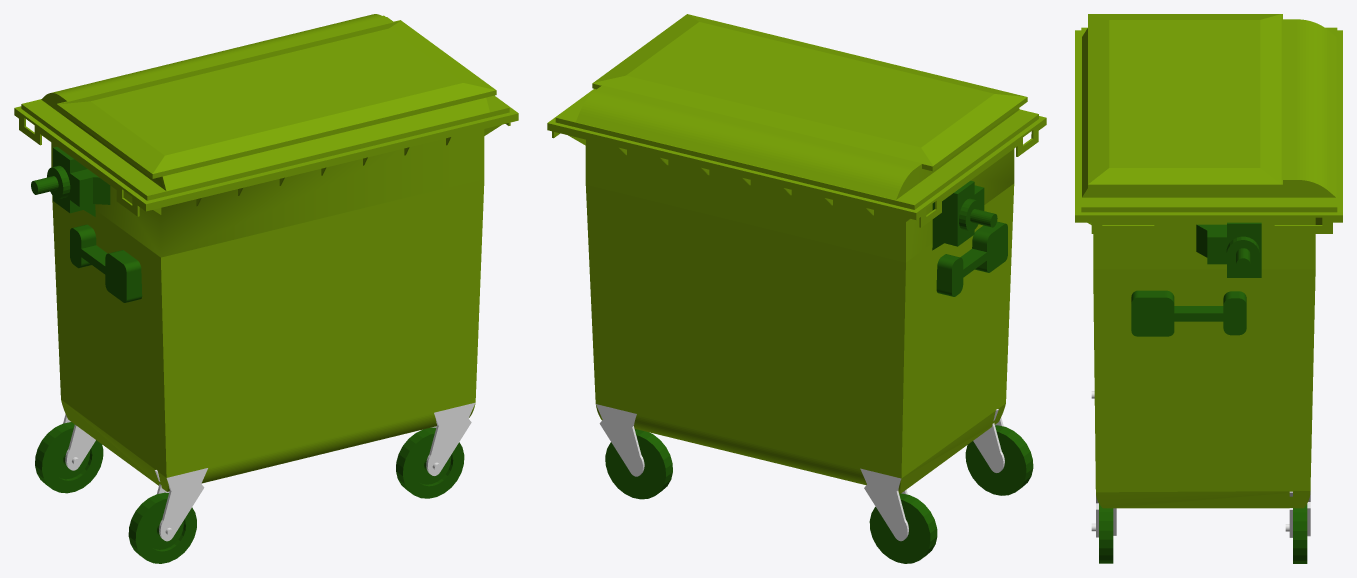
Rendered from TrashCar.fbx.
3 renders of one model, left to right at view 1: azimuth 30°, elevation 25°; view 2: azimuth 150°, elevation 25°; view 3: azimuth 270°, elevation 25°, orthographic. The views are drawn at different scales.
Parts seen in each view (by area): view 1: Group1225, Group1201, Group1226, Group1227, Group1203, Group1209, Group1205, Group1217, Group1221, Group1202, Group1206, Group1210 (+1 smaller); view 2: Group1225, Group1201, Group1226, Group1227, Group1217, Group1213, Group1205, Group1221, Group1203, Group1215, Group1219, Group1202 (+1 smaller); view 3: Group1225, Group1201, Group1226, Group1227, Group1220, Group1230, Group1202, Group1209, Group1213.
Part boxes in pixels (bbox=[...]): Group1225: bbox=[41, 14, 489, 491]; Group1201: bbox=[57, 20, 495, 173]; Group1226: bbox=[14, 17, 518, 216]; Group1227: bbox=[21, 15, 509, 200]; Group1203: bbox=[31, 147, 110, 216]; Group1209: bbox=[396, 427, 464, 498]; Group1205: bbox=[128, 492, 196, 563]; Group1217: bbox=[35, 422, 103, 493]; Group1221: bbox=[70, 224, 142, 302]; Group1202: bbox=[56, 20, 496, 178]; Group1206: bbox=[159, 468, 207, 541]; Group1210: bbox=[426, 402, 475, 475]; Group1225: bbox=[576, 86, 1019, 493]; Group1201: bbox=[593, 14, 1026, 165]; Group1226: bbox=[547, 89, 1046, 227]; Group1227: bbox=[555, 89, 1038, 209]; Group1217: bbox=[869, 493, 937, 563]; Group1213: bbox=[605, 429, 672, 499]; Group1205: bbox=[965, 425, 1033, 495]; Group1221: bbox=[936, 221, 1007, 296]; Group1203: bbox=[932, 180, 997, 250]; Group1215: bbox=[596, 404, 644, 476]; Group1219: bbox=[860, 468, 908, 541]; Group1202: bbox=[592, 83, 1027, 171]; Group1225: bbox=[1082, 19, 1336, 508]; Group1201: bbox=[1088, 14, 1281, 184]; Group1226: bbox=[1075, 30, 1342, 233]; Group1227: bbox=[1081, 27, 1337, 212]; Group1220: bbox=[1131, 290, 1246, 336]; Group1230: bbox=[1196, 222, 1261, 277]; Group1202: bbox=[1088, 14, 1282, 189]; Group1209: bbox=[1091, 504, 1113, 563]; Group1213: bbox=[1285, 504, 1307, 563].
Size of the model in its own units: 7.68 by 6.88 by 4.08.
